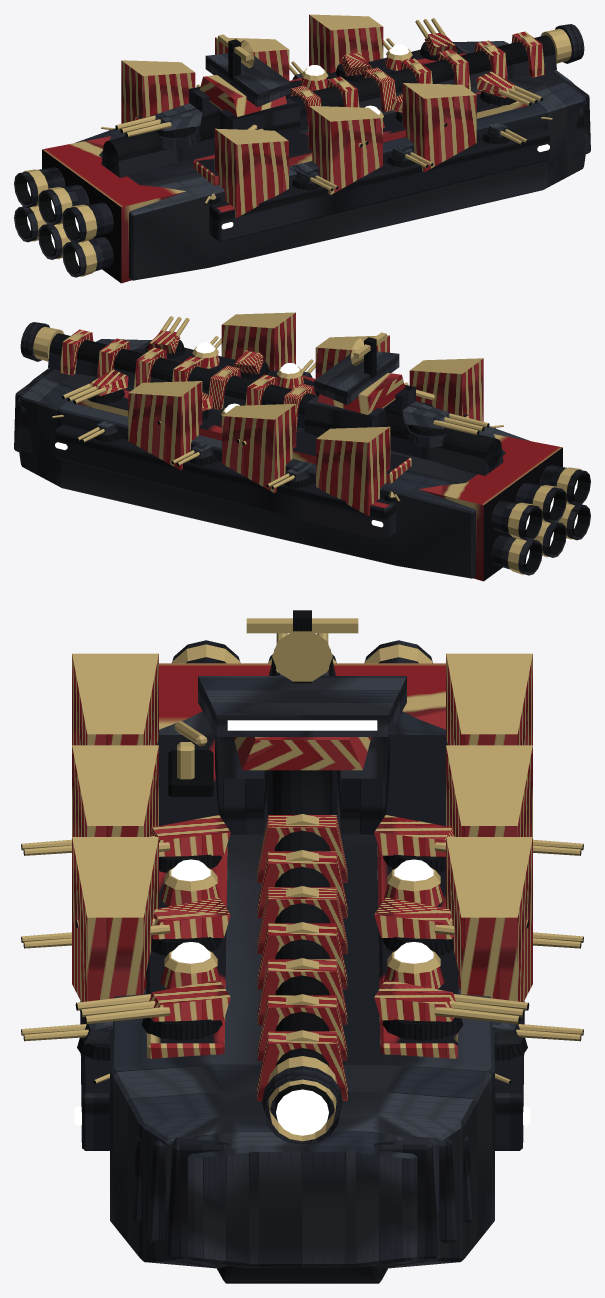
File: battleship.glb
3 views of the same model, one above another, from view 1: azimuth 30°, elevation 25°; view 2: azimuth 150°, elevation 25°; view 3: azimuth 270°, elevation 25° (orthographic). The views are drawn at different scales.
Visible parts, largest first — view 1: hull_body, weapon_mounts, engine_block, sensor_tower, shield_domes; view 2: hull_body, weapon_mounts, engine_block, sensor_tower, shield_domes; view 3: hull_body, weapon_mounts, sensor_tower, engine_block, shield_domes.
Boxes of the visible parts, x1=… form: hull_body: x1=75, y1=14, x2=590, y2=280; weapon_mounts: x1=101, y1=18, x2=584, y2=204; engine_block: x1=14, y1=136, x2=185, y2=283; sensor_tower: x1=189, y1=34, x2=300, y2=138; shield_domes: x1=300, y1=44, x2=412, y2=128; hull_body: x1=14, y1=312, x2=529, y2=578; weapon_mounts: x1=20, y1=316, x2=503, y2=502; engine_block: x1=419, y1=434, x2=590, y2=581; sensor_tower: x1=304, y1=332, x2=415, y2=436; shield_domes: x1=192, y1=342, x2=304, y2=426; hull_body: x1=72, y1=653, x2=532, y2=1283; weapon_mounts: x1=21, y1=633, x2=583, y2=1145; sensor_tower: x1=198, y1=610, x2=406, y2=834; engine_block: x1=159, y1=640, x2=445, y2=729; shield_domes: x1=160, y1=859, x2=444, y2=989.
Size of the model in its own units: 60 by 19.7 by 27.72.
1 material, 1 textured.
